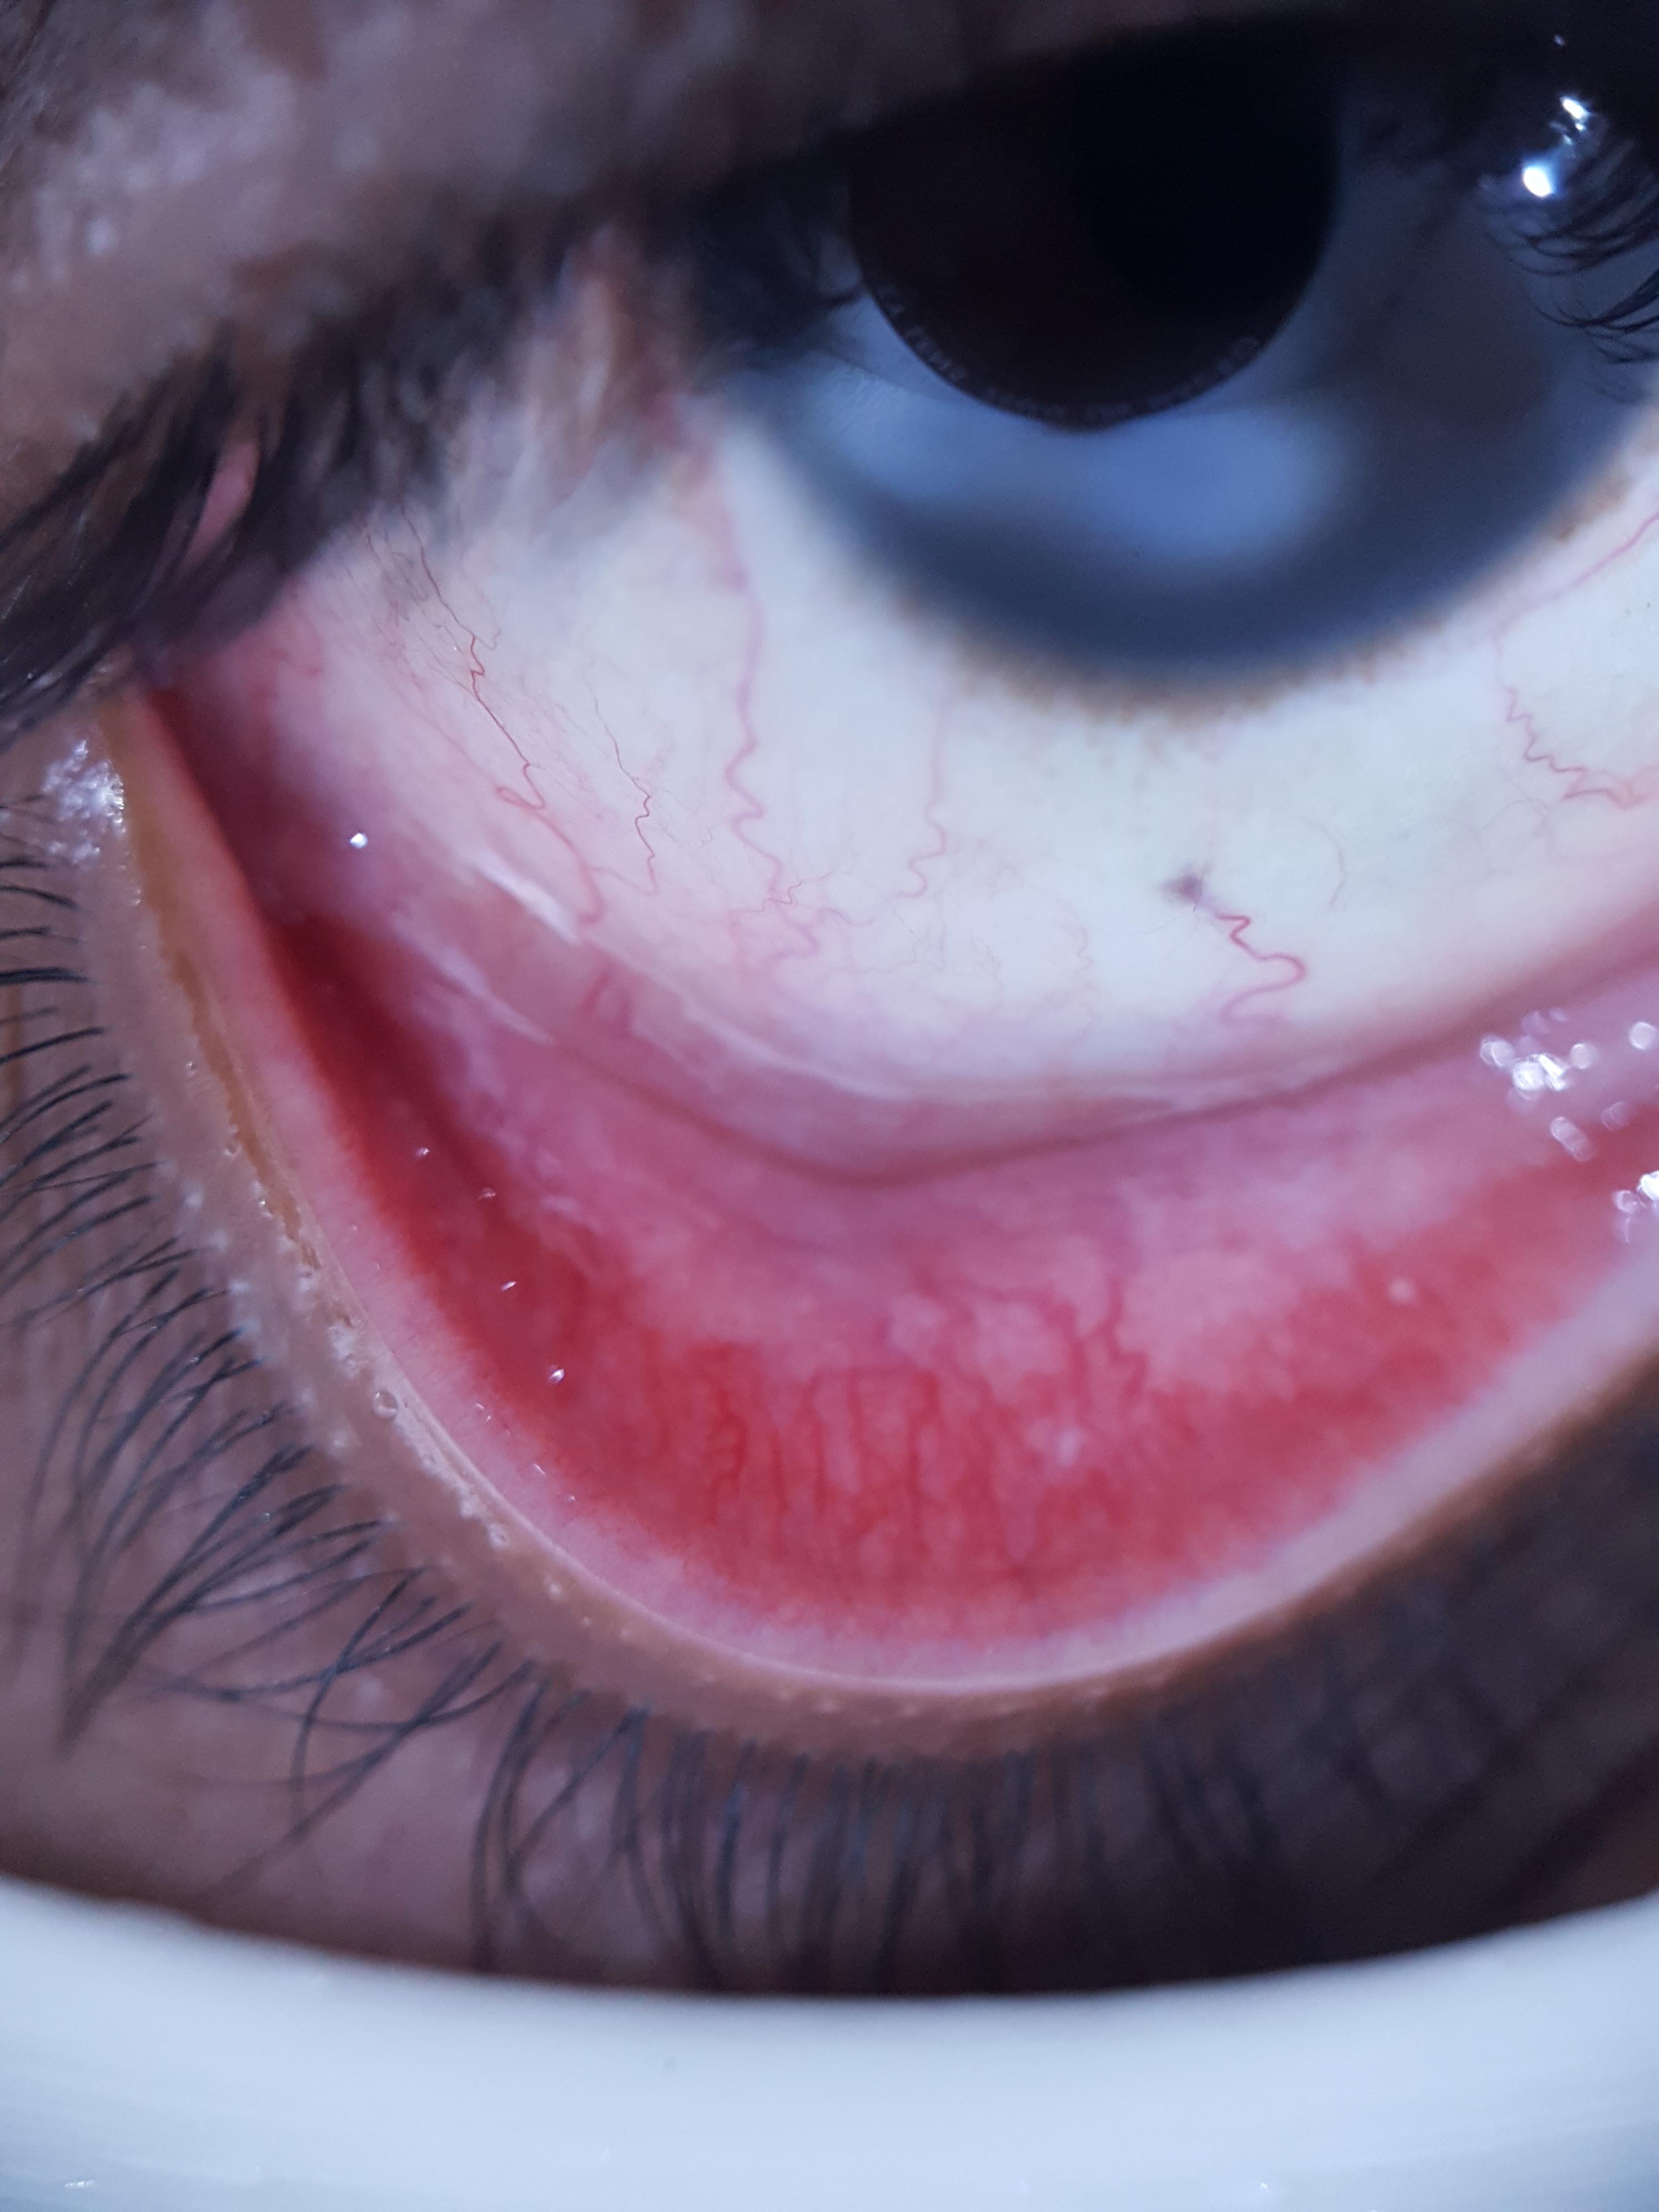forniceal: (389, 937, 1556, 1339)
forniceal_palpebral: (230, 869, 1640, 1634)
palpebral: (247, 885, 1628, 1616)
